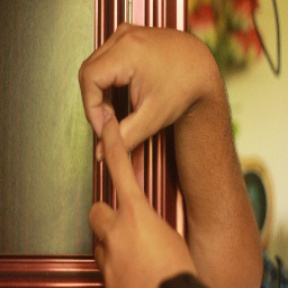Q: (74, 19, 219, 250)
